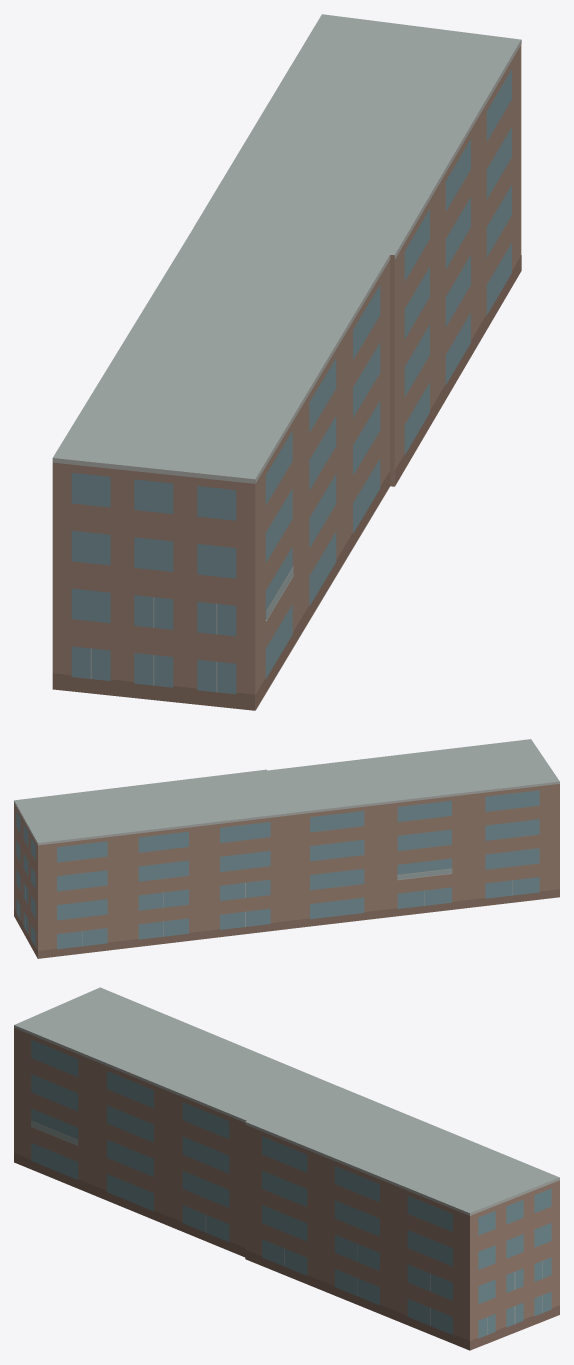
The model's file is survey-upis-32758761.glb.
3 views of the same model, one above another, from view 1: azimuth 30°, elevation 25°; view 2: azimuth 150°, elevation 25°; view 3: azimuth 270°, elevation 25° (orthographic). The views are drawn at different scales.
Visible parts, largest first — view 1: survey-upis-32758761.tmp; view 2: survey-upis-32758761.tmp; view 3: survey-upis-32758761.tmp.
Boxes of the visible parts, x1,y1,x2,y2 form: survey-upis-32758761.tmp: [52, 14, 521, 710]; survey-upis-32758761.tmp: [14, 739, 559, 958]; survey-upis-32758761.tmp: [14, 987, 559, 1350].
Bounding box in the file's own units: 43.05 × 12.2 × 43.95.
